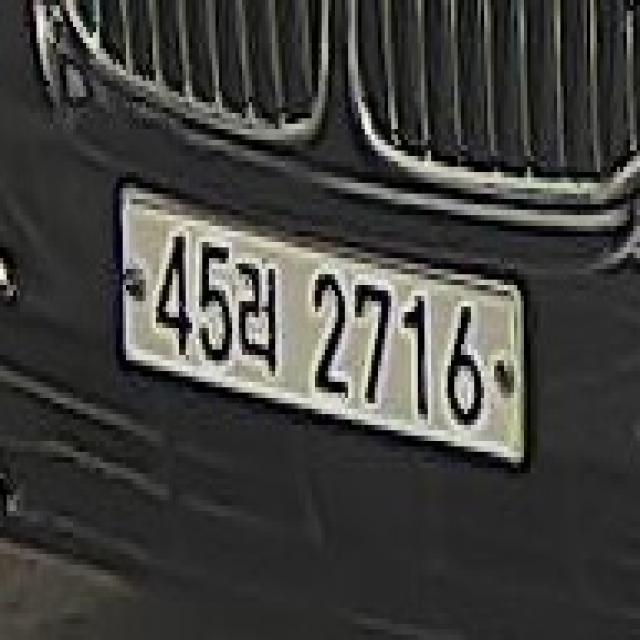plat: (114, 175, 531, 472)
